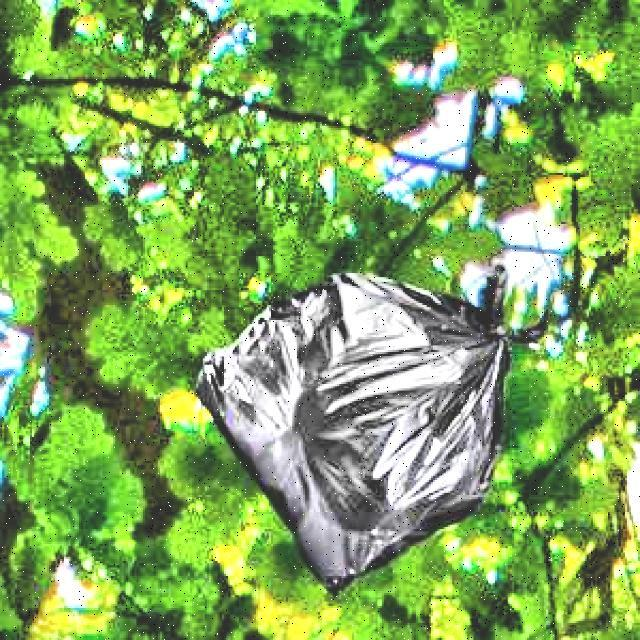Trashbag: (186, 253, 555, 599)
